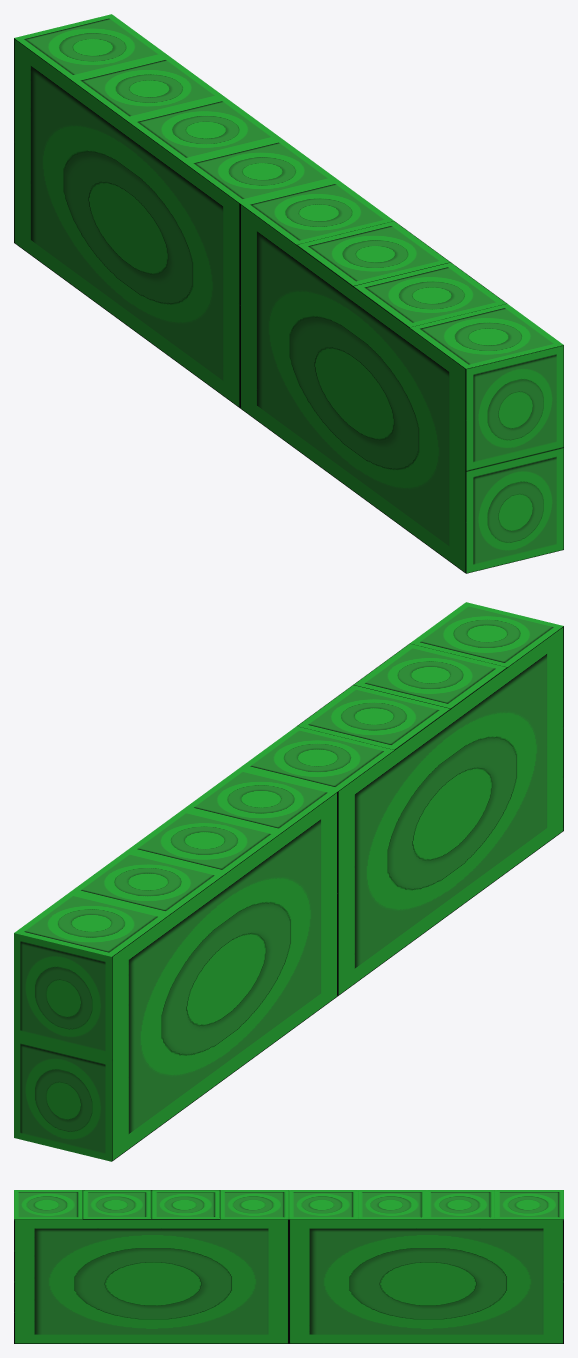
Rendered from 4xBorder.fbx.
3 views of the same model, one above another, from view 1: azimuth 30°, elevation 25°; view 2: azimuth 150°, elevation 25°; view 3: azimuth 270°, elevation 25° (orthographic). The views are drawn at different scales.
Visible parts, largest first — view 1: 4xBorder; view 2: 4xBorder; view 3: 4xBorder.
Part boxes in pixels (left/top/right/bottom): 4xBorder: left=14, top=14, right=563, bottom=573; 4xBorder: left=14, top=602, right=563, bottom=1161; 4xBorder: left=14, top=1190, right=563, bottom=1343.
Bounding box in the file's own units: 0.5 × 1 × 4.
1 material, 1 textured.
